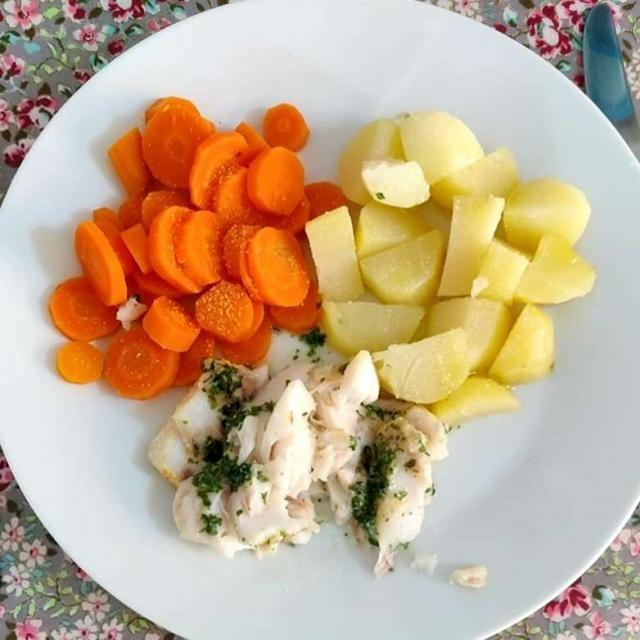carrot: (54, 100, 340, 396)
fish: (151, 357, 444, 592)
potatoes: (326, 117, 586, 419)
